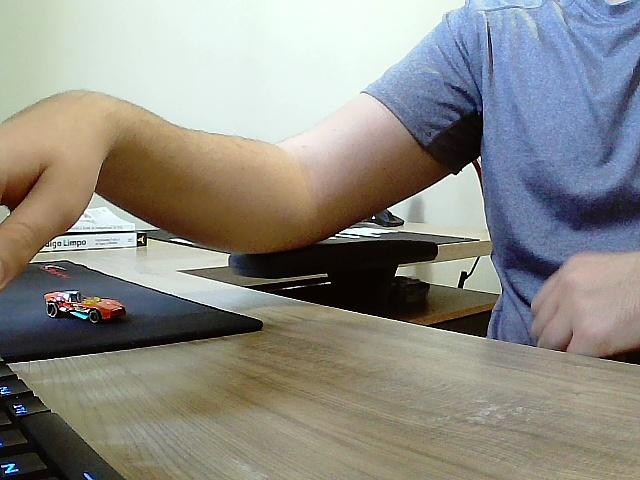Carro: (46, 292, 126, 323)
